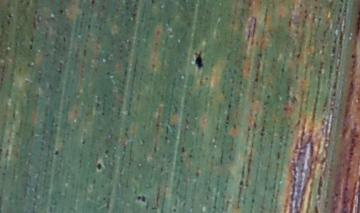tarspot: (195, 51, 205, 68), (94, 162, 102, 171), (27, 43, 35, 51), (238, 178, 245, 187), (58, 7, 65, 15), (52, 149, 60, 156), (102, 149, 111, 155), (350, 52, 357, 59), (253, 76, 260, 83), (136, 194, 142, 202), (90, 1, 97, 7), (180, 146, 186, 153), (142, 193, 146, 202), (8, 13, 13, 19), (172, 207, 177, 211)
